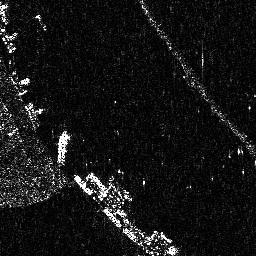ship: (56, 128, 71, 167)
